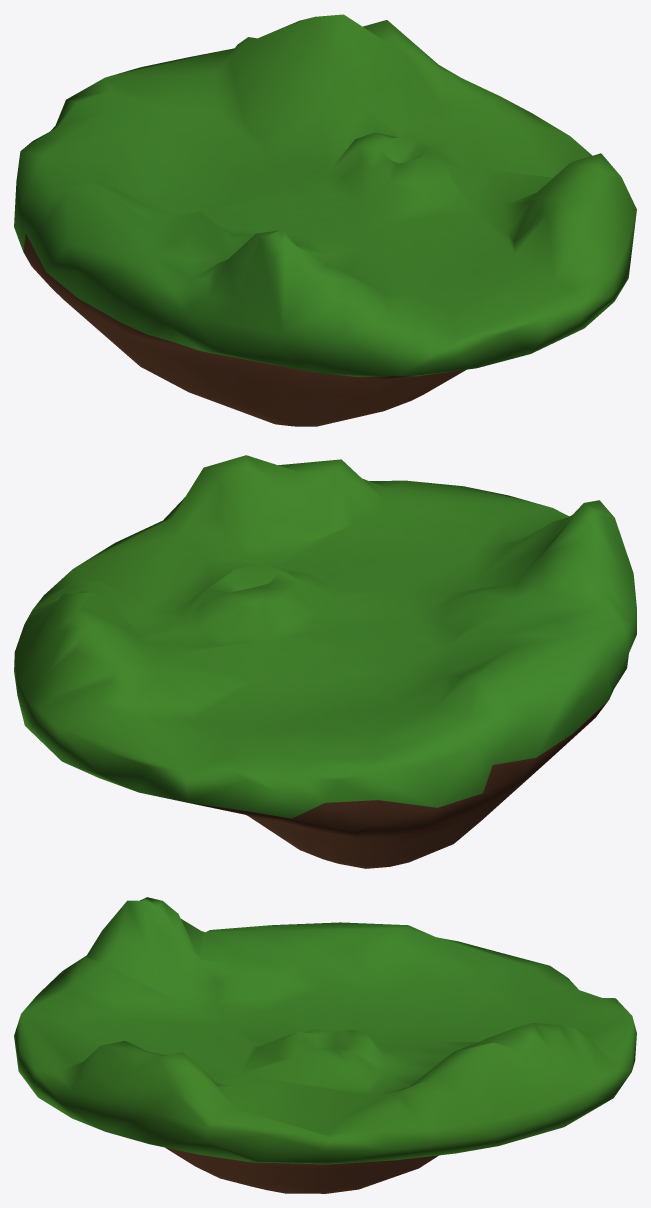
3 views of the same model, one above another, from view 1: azimuth 30°, elevation 25°; view 2: azimuth 150°, elevation 25°; view 3: azimuth 270°, elevation 25° (orthographic). The views are drawn at different scales.
Visible parts, largest first — view 1: Surface_02; view 2: Surface_02; view 3: Surface_02.
Part boxes in pixels (x1,y1,x2,y2): Surface_02: (14,14,636,426); Surface_02: (14,455,636,868); Surface_02: (14,897,636,1193).
Size of the model in its own units: 7350 by 3926 by 9313.
